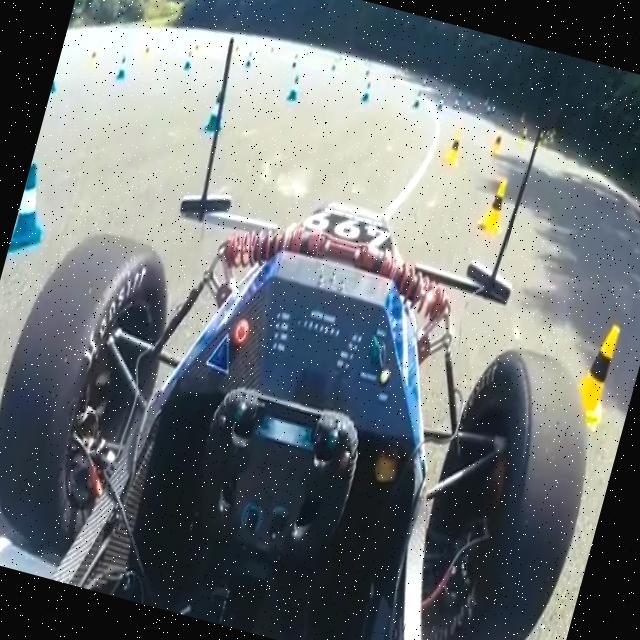blue_cone: (5, 161, 60, 264), (202, 89, 230, 136), (285, 73, 303, 103), (114, 54, 130, 82), (49, 65, 62, 95)
yellow_cone: (560, 316, 627, 432), (475, 174, 514, 238), (440, 128, 466, 168)
